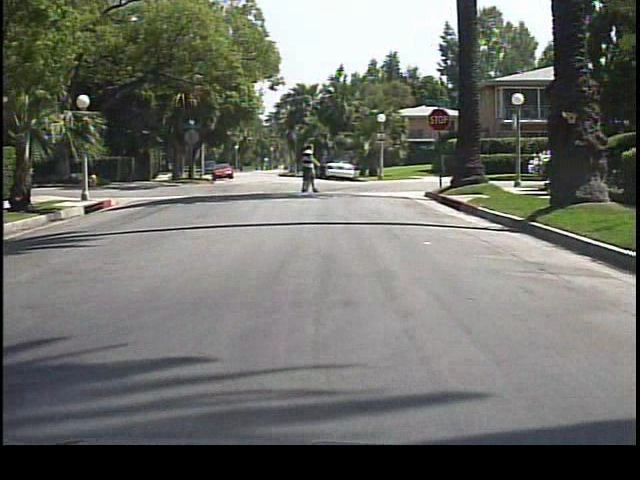person: (296, 145, 317, 195)
